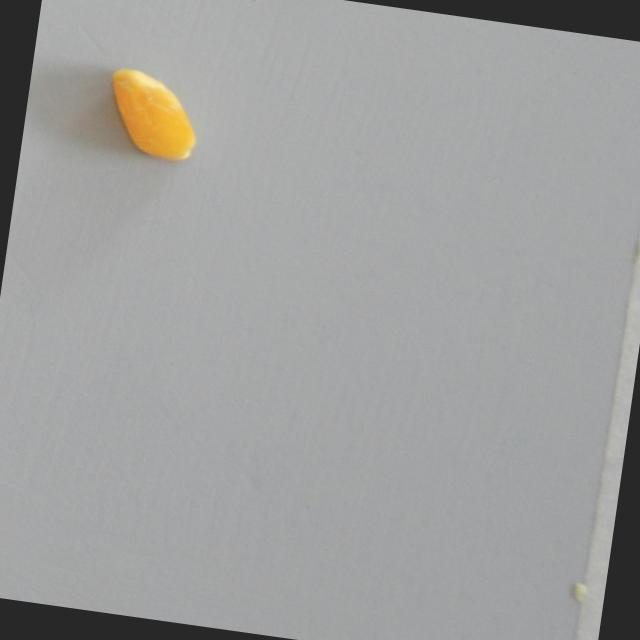pelicula: (97, 66, 207, 163)
